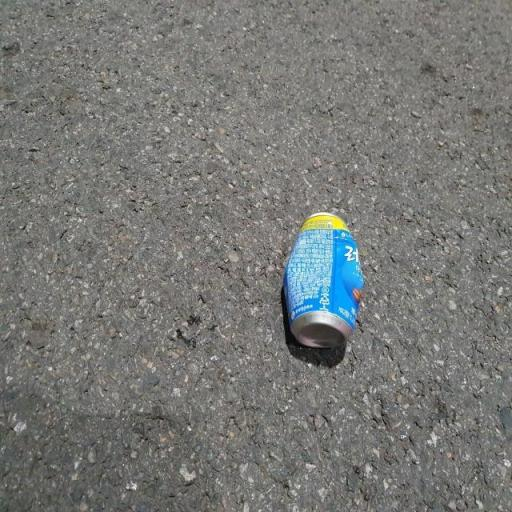metal: (264, 198, 392, 382)
